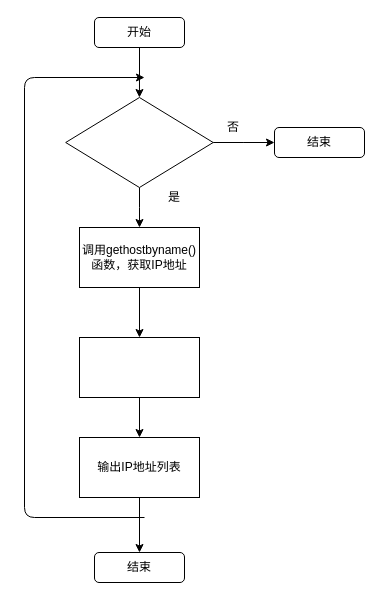
Image size: 382x600. Some labels were removed from this diagram. Here are the shapes that lost their labels. From the top down, the centre of each, then its label:
At (139,142): "是否还有控制台参数".
At (139,367): "将网络字符串地址转化成点分十进制".
